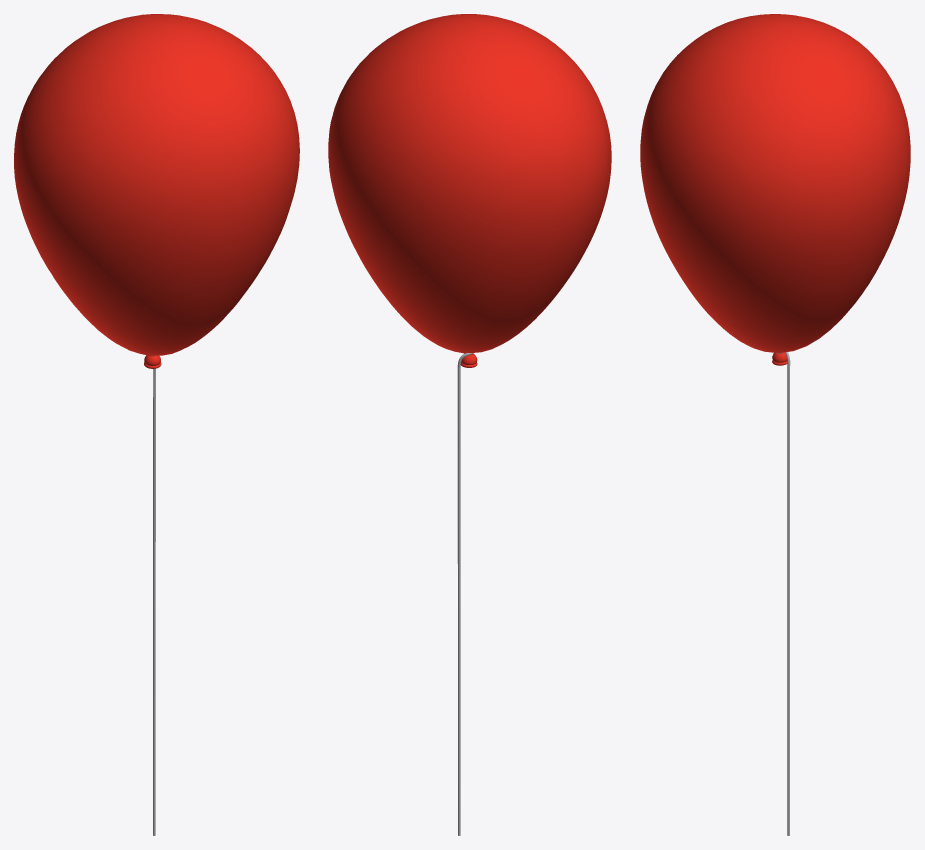
File: red ballon.obj
The picture shows the model from 3 angles, left to right: view 1: azimuth 30°, elevation 25°; view 2: azimuth 150°, elevation 25°; view 3: azimuth 270°, elevation 25°; orthographic projection.
Parts seen in each view (by area): view 1: node_id90; view 2: node_id90; view 3: node_id90.
Boxes of the visible parts, <box> form: node_id90: <box>14,14,299,835</box>; node_id90: <box>328,14,611,835</box>; node_id90: <box>640,14,910,835</box>.
Size of the model in its own units: 0.1664 by 0.512 by 0.1557.
Materials: 1 (1 with a texture image).
